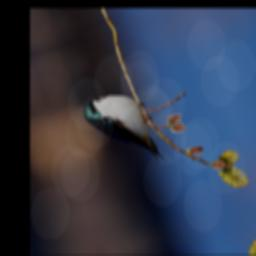Swallow: (77, 83, 165, 178)
